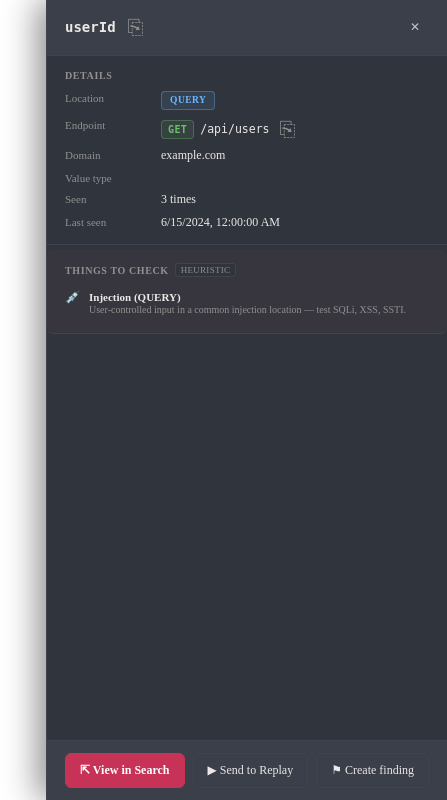
Test: ParameterDrawer › finding form › opens the finding form when "Create finding" is clicked
The image size is (447, 800).
Click the button "⚑ Create finding": (373, 771) [316, 753, 429, 788]
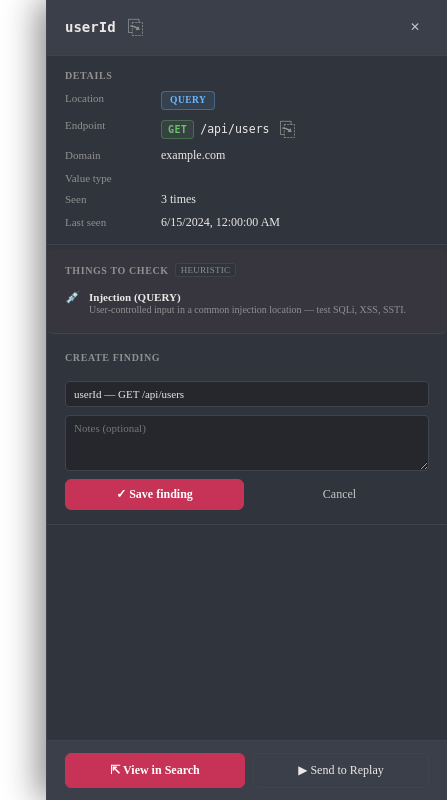
Check: the element with class "d-finding-form" is shown, box [47, 338, 446, 525]
